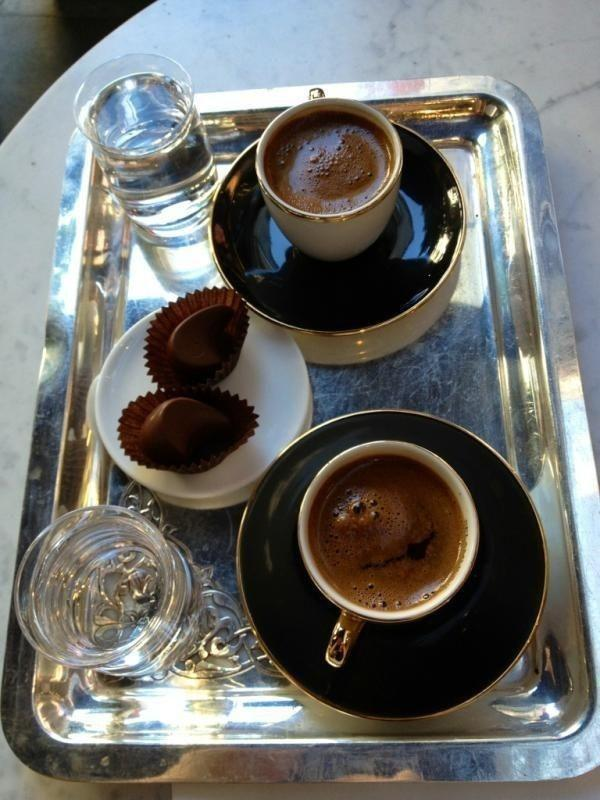cup-handle: (291, 433, 489, 672), (249, 84, 407, 262)
glass-normal: (14, 502, 199, 682), (75, 51, 219, 244)
